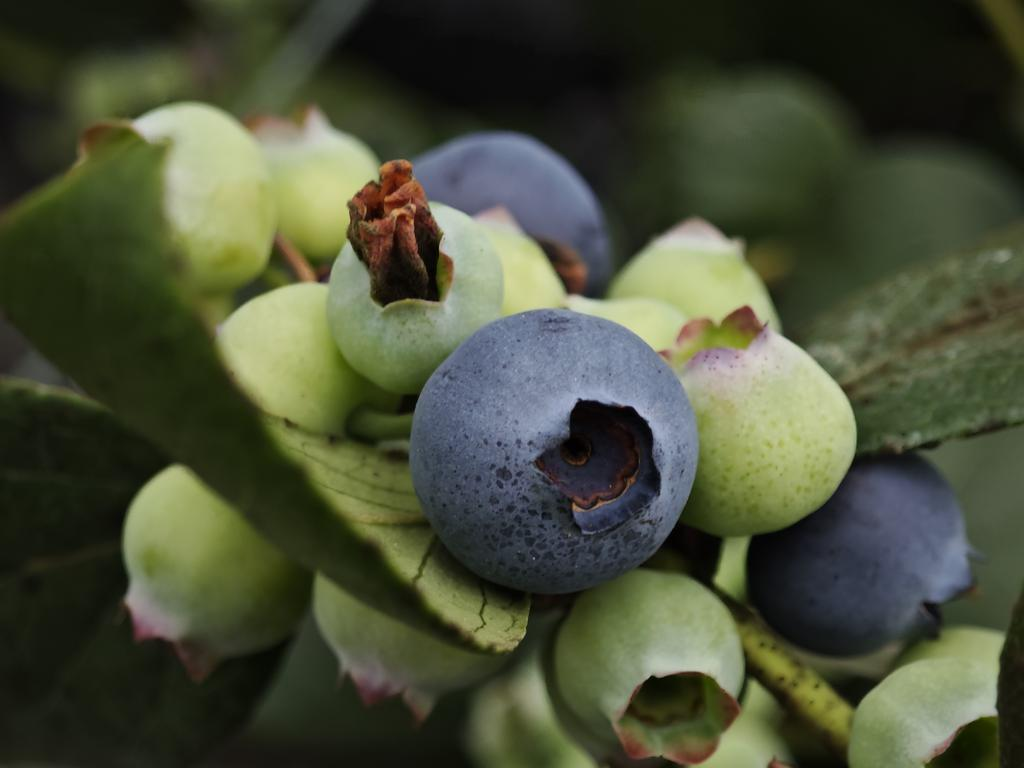RipeBlueBerry: (405, 303, 703, 600)
